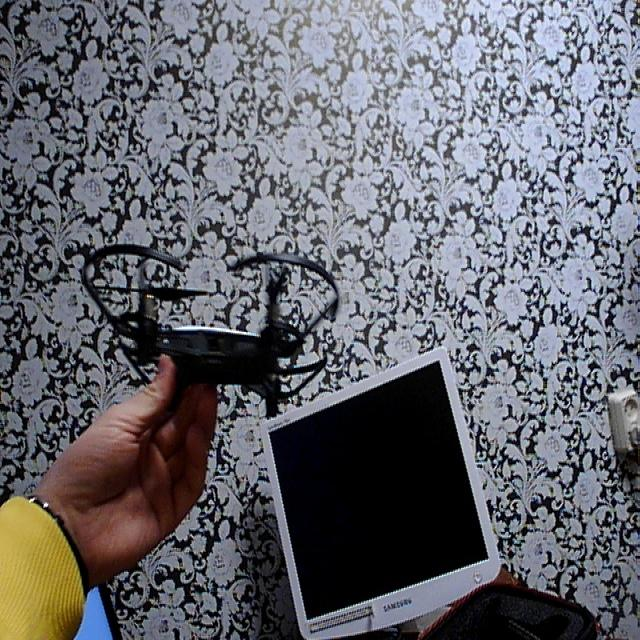drone: (71, 212, 342, 433)
